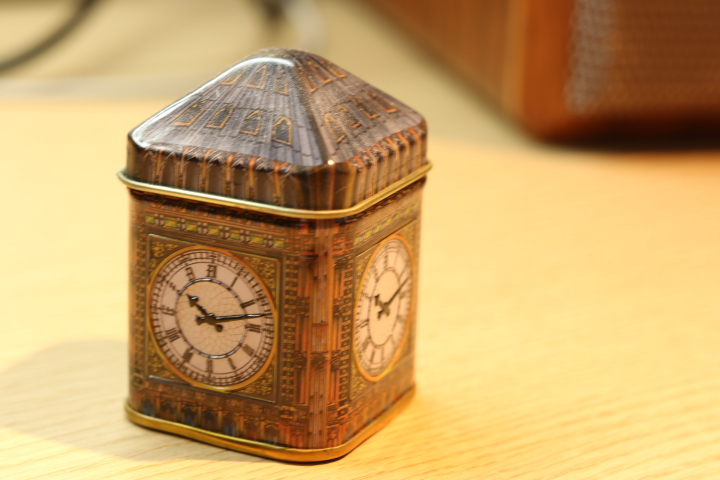Big Ben: (101, 35, 457, 473)
